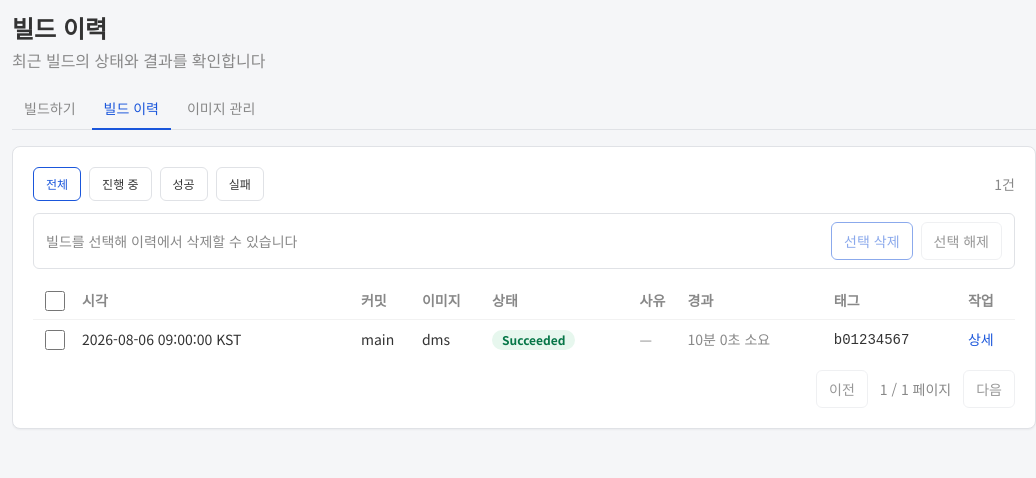
it: BuildHistory — 빌드 이력 › 삭제 실패는 사유를 바 아래에 남긴다
Click the checkbox named "빌드 0123456789ab 선택" at (55, 340), box [45, 330, 65, 350]
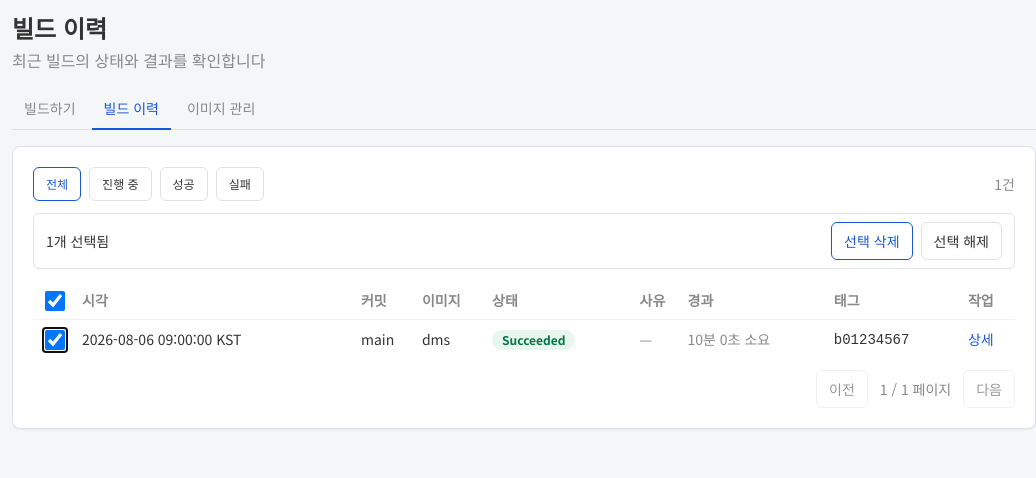
Click the button "선택 삭제" at (872, 241), box [831, 222, 913, 260]
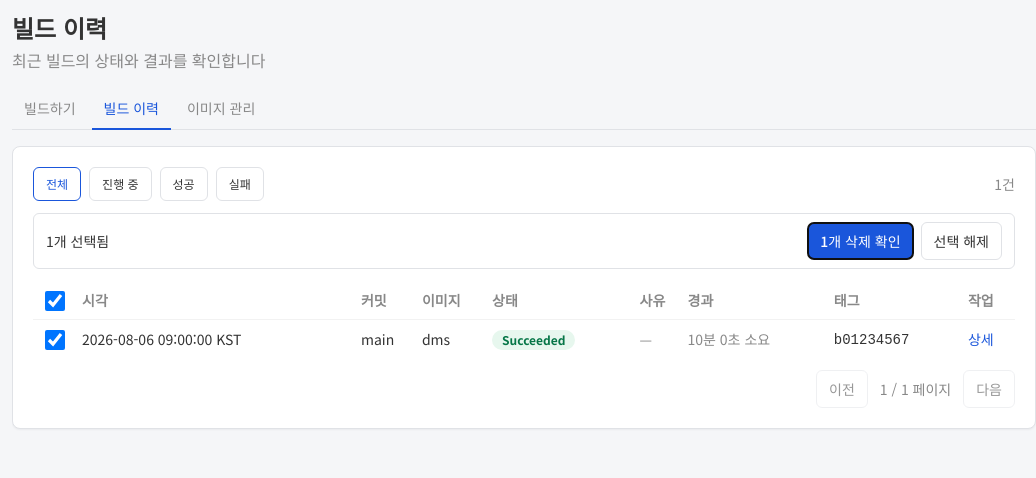
Click the button "1개 삭제 확인" at (860, 241), box [808, 223, 912, 259]
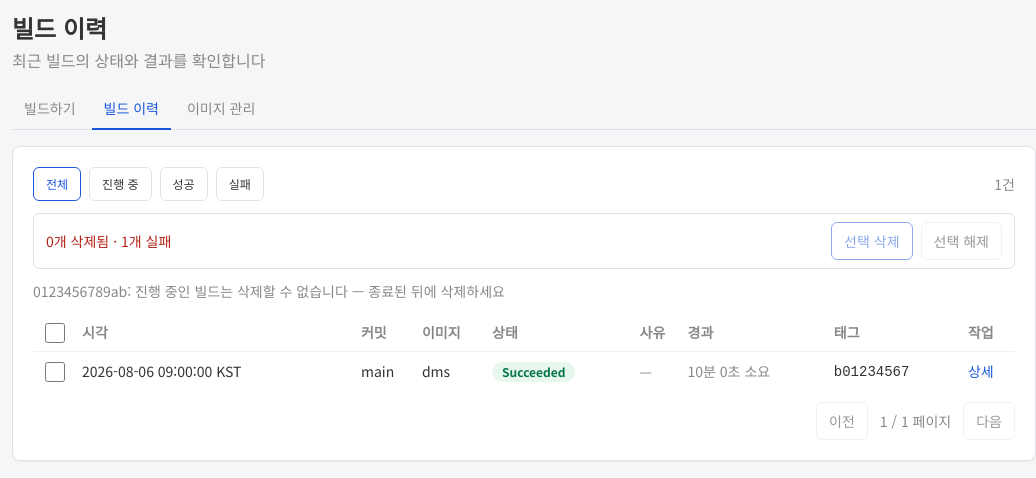
Result: the text "0123456789ab: 진행 중인 빌드는 삭제할 수 없습니다 — 종료된 뒤에 삭제하세요" is shown at [33, 281, 505, 301]
